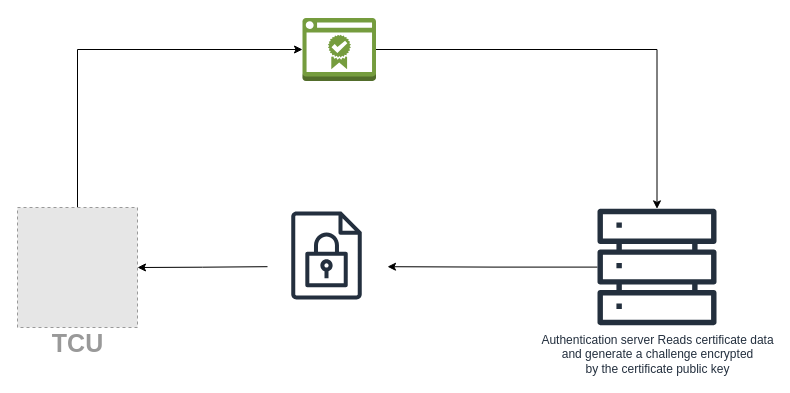
Image size: 790x393. Some labels were removed from this diagram. Grey dashed boxes stand in for pictures. The box of each missing label's shape, as (x1, y1, x2, y2) in pixels:
Server send the encrypted challenge to TCU: (270, 200, 382, 310)
TCU uses it's certififcate to request a challenge: (302, 17, 376, 81)
